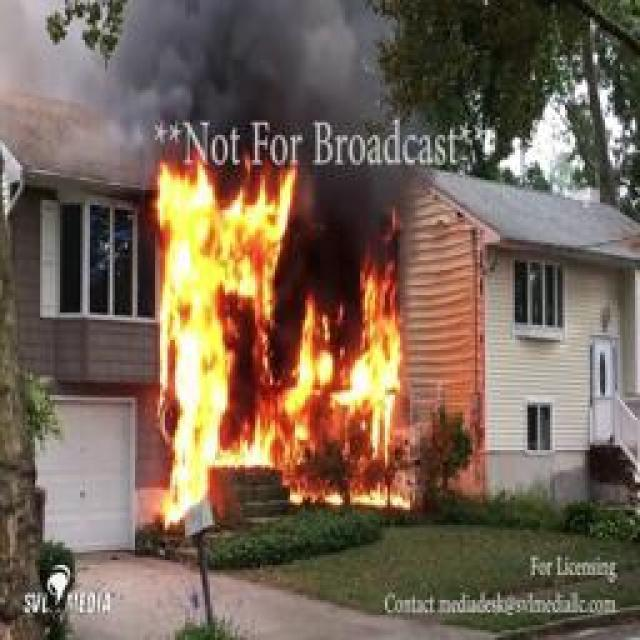Fire: (132, 169, 403, 514)
Smoke: (47, 0, 404, 136)
